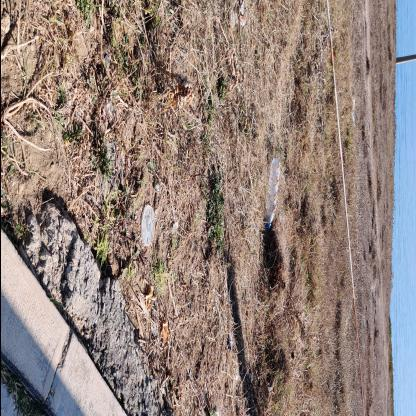plastik: (266, 159, 281, 231), (141, 206, 155, 248)
